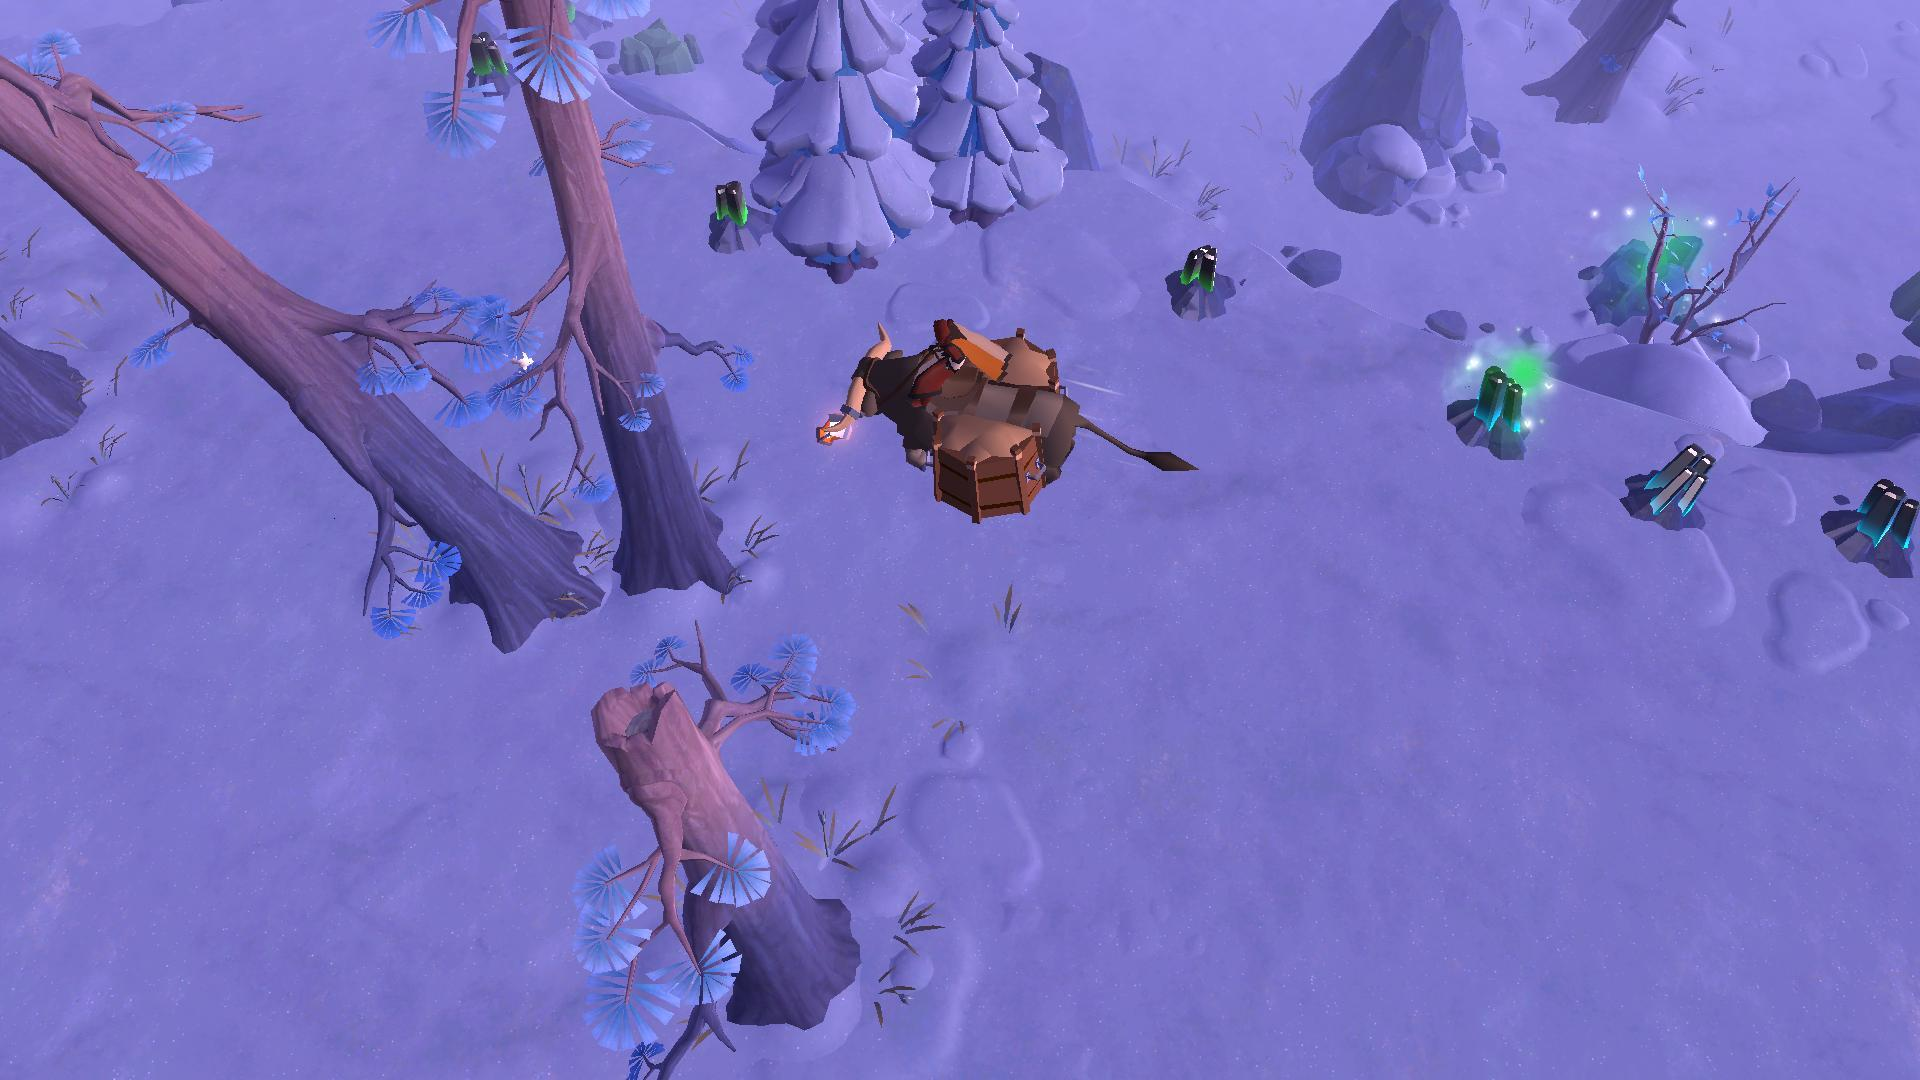ore_t3: (1171, 239, 1221, 294), (463, 32, 510, 86), (704, 181, 756, 228)
ore_t4: (1638, 436, 1705, 526), (1855, 469, 1920, 556), (1477, 364, 1524, 442)
rock_t3: (608, 20, 716, 84)
rock_t4: (1581, 215, 1700, 336)
